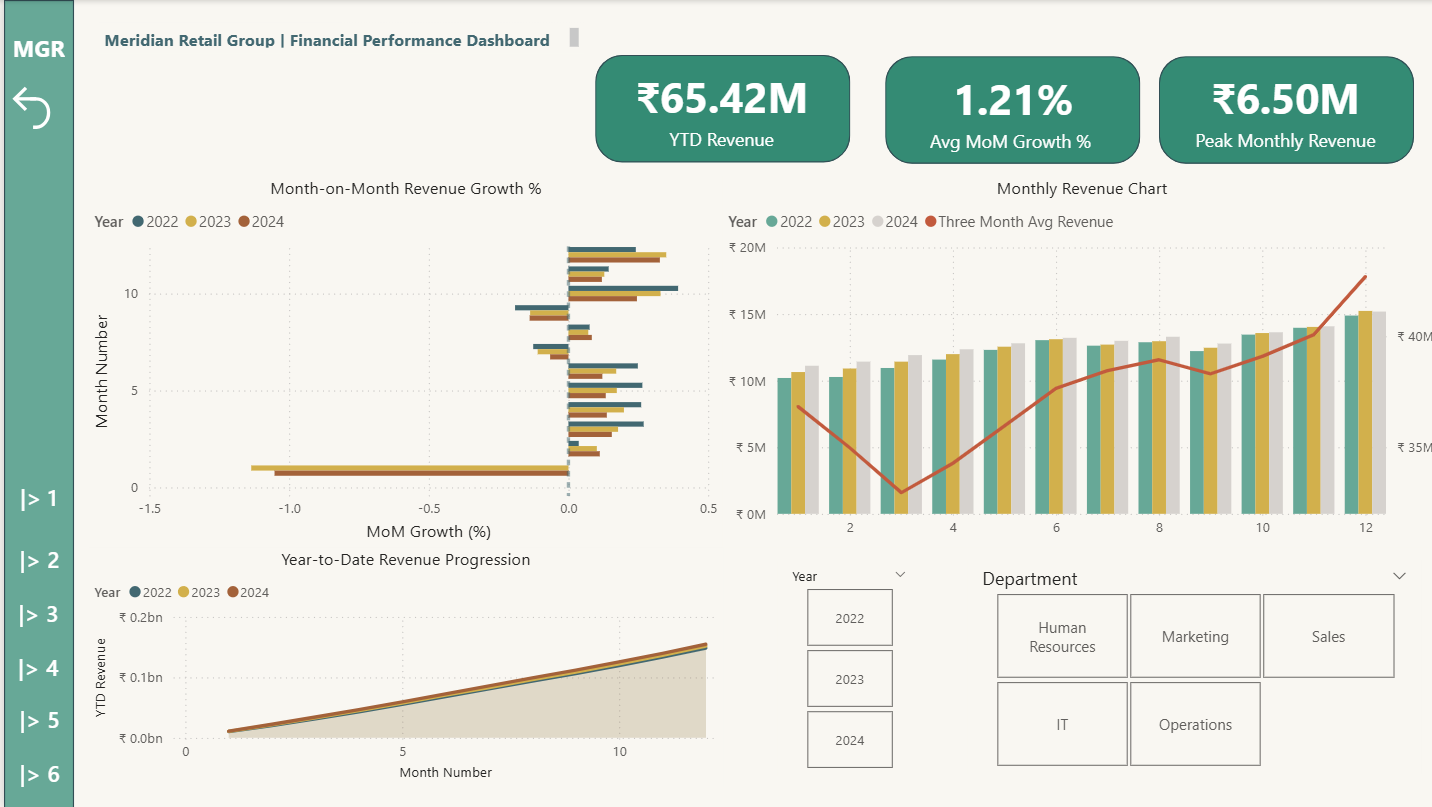

The page's visual inventory and layout, read from the dashboard file:
{"tool":"powerbi","page":{"name":"Revenue Momentum","canvas":[1280,720],"ordinal":4},"visuals":[{"type":"shape","title":"Border Shape","box":[0,0,62.4,720.2],"z":0},{"type":"actionButton","title":"Logo","box":[0,11.5,62.5,60.9],"z":0,"group":"g3"},{"type":"shape","box":[1029.1,49.9,227.1,95.7],"z":0,"group":"g2"},{"type":"actionButton","box":[0,418.9,61.6,47.7],"z":0,"group":"g1"},{"type":"slicer","title":"Slicer - Yr","fields":{"Values":["Monthly KPI.Year"]},"box":[688.9,498.9,126.7,191.1],"z":0,"group":"g4"},{"type":"textbox","title":"Title","box":[84.8,20.8,431.9,27.7],"z":1000,"group":"g3"},{"type":"card","title":"Peak Month Revenue","fields":{"Values":["Measure_Table.5.Peak Monthly Revenue (Mon. KPI)"]},"box":[1038,52.7,207.9,90.9],"z":1000,"group":"g2"},{"type":"actionButton","title":"Reset - Button","box":[0,70.7,74,49.3],"z":1000},{"type":"actionButton","box":[1.5,474.3,61.6,47.7],"z":1000,"group":"g1"},{"type":"slicer","title":"Slicer - Dept.","fields":{"Values":["Monthly KPI.Department"]},"box":[857.7,498.2,403.7,190.4],"z":1000,"group":"g4"},{"type":"shape","box":[785.3,50.1,227.1,95.7],"z":2000,"group":"g2"},{"type":"clusteredBarChart","title":"Month-on-Month Revenue Growth %","fields":{"Category":["Monthly KPI.Month Number"],"Series":["Monthly KPI.Year"],"Y":["Sum(Monthly KPI.MoM Growth (%))"]},"box":[75.3,157.1,564.6,330.6],"z":2000},{"type":"actionButton","box":[0,522.1,61.6,47.7],"z":2000,"group":"g1"},{"type":"card","title":"Avg MoM Growth %","fields":{"Values":["Measure_Table.5.Avg MoM Growth % (Mon. KPI)"]},"box":[795.3,53.6,207.9,90.9],"z":3000,"group":"g2"},{"type":"lineClusteredColumnComboChart","title":"Monthly Revenue Chart","fields":{"Category":["Monthly KPI.Month Number"],"Y":["Sum(Monthly KPI.Monthly Revenue)"],"Series":["Monthly KPI.Year"],"Y2":["Sum(Monthly KPI.Three Month Avg Revenue)"]},"box":[639.8,157.1,639.8,330.6],"z":3000},{"type":"actionButton","box":[0,569.8,61.6,47.7],"z":3000,"group":"g1"},{"type":"shape","box":[526.7,49,227.1,95.7],"z":4000,"group":"g2"},{"type":"lineChart","title":"Year-to-Date Revenue Progression","fields":{"Category":["Monthly KPI.Month Number"],"Y":["Sum(Monthly KPI.YTD Revenue)"],"Series":["Monthly KPI.Year"]},"box":[75.3,487.7,564.6,212.7],"z":4000},{"type":"actionButton","box":[1.5,665.3,61.6,47.7],"z":4000,"group":"g1"},{"type":"card","title":"YTD Revenue","fields":{"Values":["Measure_Table.5.YTD Revenue (Mon. KPI)"]},"box":[535.6,51.8,207.9,90.9],"z":5000,"group":"g2"},{"type":"group","id":"g1","title":"Page Navigation","box":[0,418.9,63.1,294.1],"z":5000},{"type":"actionButton","box":[1.5,617.6,61.6,47.7],"z":5000,"group":"g1"},{"type":"group","id":"g2","title":"KPI Cards","box":[526.7,49,729.5,96.8],"z":6000},{"type":"group","id":"g3","title":"Logo & Title","box":[0,11.5,516.7,60.9],"z":7000},{"type":"group","id":"g4","title":"Slicers","box":[688.9,498.2,572.5,191.8],"z":8000}]}

Visuals, with their boxes on the page's 1280x720 design canvas (x1, y1, x2, y2). These are canvas units, not pixel positions in the 1432x807 screenshot, which may show the page scaled, cropped or inside an application window:
"Border Shape" shape: box=[0, 0, 62, 720]
"Logo" actionButton: box=[0, 12, 62, 72]
shape: box=[1029, 50, 1256, 146]
actionButton: box=[0, 419, 62, 467]
"Slicer - Yr" slicer: box=[689, 499, 816, 690]
"Title" textbox: box=[85, 21, 517, 48]
"Peak Month Revenue" card: box=[1038, 53, 1246, 144]
"Reset - Button" actionButton: box=[0, 71, 74, 120]
actionButton: box=[2, 474, 63, 522]
"Slicer - Dept." slicer: box=[858, 498, 1261, 689]
shape: box=[785, 50, 1012, 146]
"Month-on-Month Revenue Growth %" clusteredBarChart: box=[75, 157, 640, 488]
actionButton: box=[0, 522, 62, 570]
"Avg MoM Growth %" card: box=[795, 54, 1003, 144]
"Monthly Revenue Chart" lineClusteredColumnComboChart: box=[640, 157, 1280, 488]
actionButton: box=[0, 570, 62, 618]
shape: box=[527, 49, 754, 145]
"Year-to-Date Revenue Progression" lineChart: box=[75, 488, 640, 700]
actionButton: box=[2, 665, 63, 713]
"YTD Revenue" card: box=[536, 52, 744, 143]
"Page Navigation" group: box=[0, 419, 63, 713]
actionButton: box=[2, 618, 63, 665]
"KPI Cards" group: box=[527, 49, 1256, 146]
"Logo & Title" group: box=[0, 12, 517, 72]
"Slicers" group: box=[689, 498, 1261, 690]
